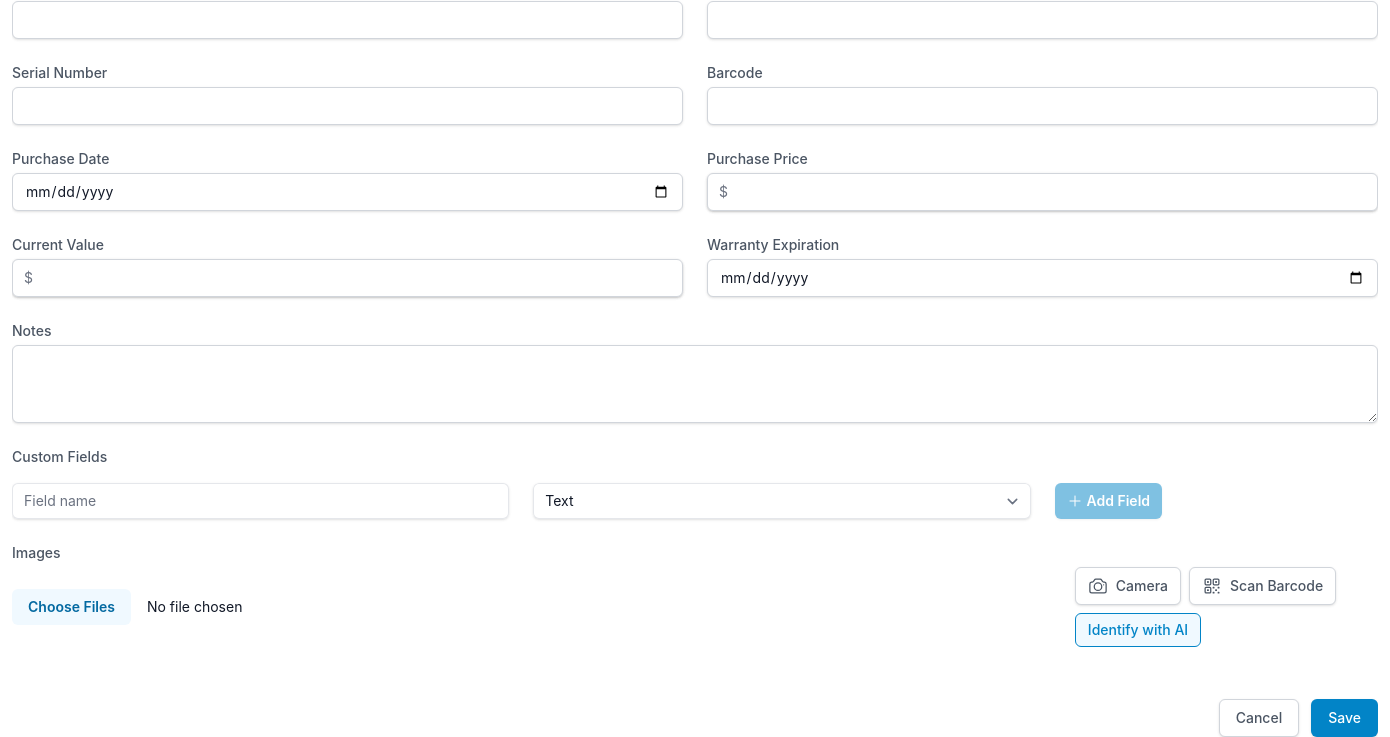
Test: AddItem form › shows validation errors for required fields on empty submit
The width and height of the screenshot is (1390, 737).
(page scrolled)
Step 1. Click the button "Save" → {"x": 1345, "y": 718}, box top-left (1311, 699), bottom-right (1378, 736)
(page scrolled)
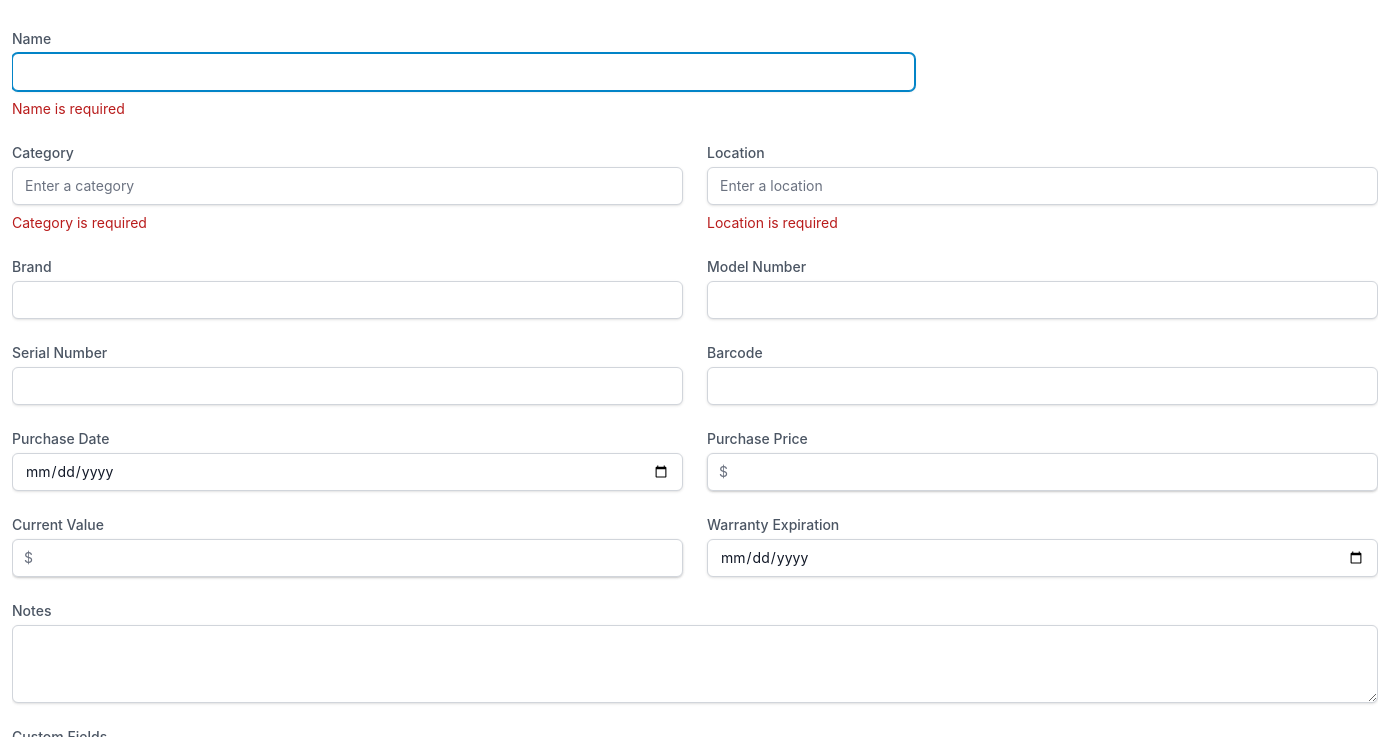
Result: the text "Name is required" is shown at top-left (12, 100), bottom-right (125, 117)
Result: the text "Category is required" is shown at top-left (12, 214), bottom-right (147, 231)
Result: the text "Location is required" is shown at top-left (707, 214), bottom-right (838, 231)
